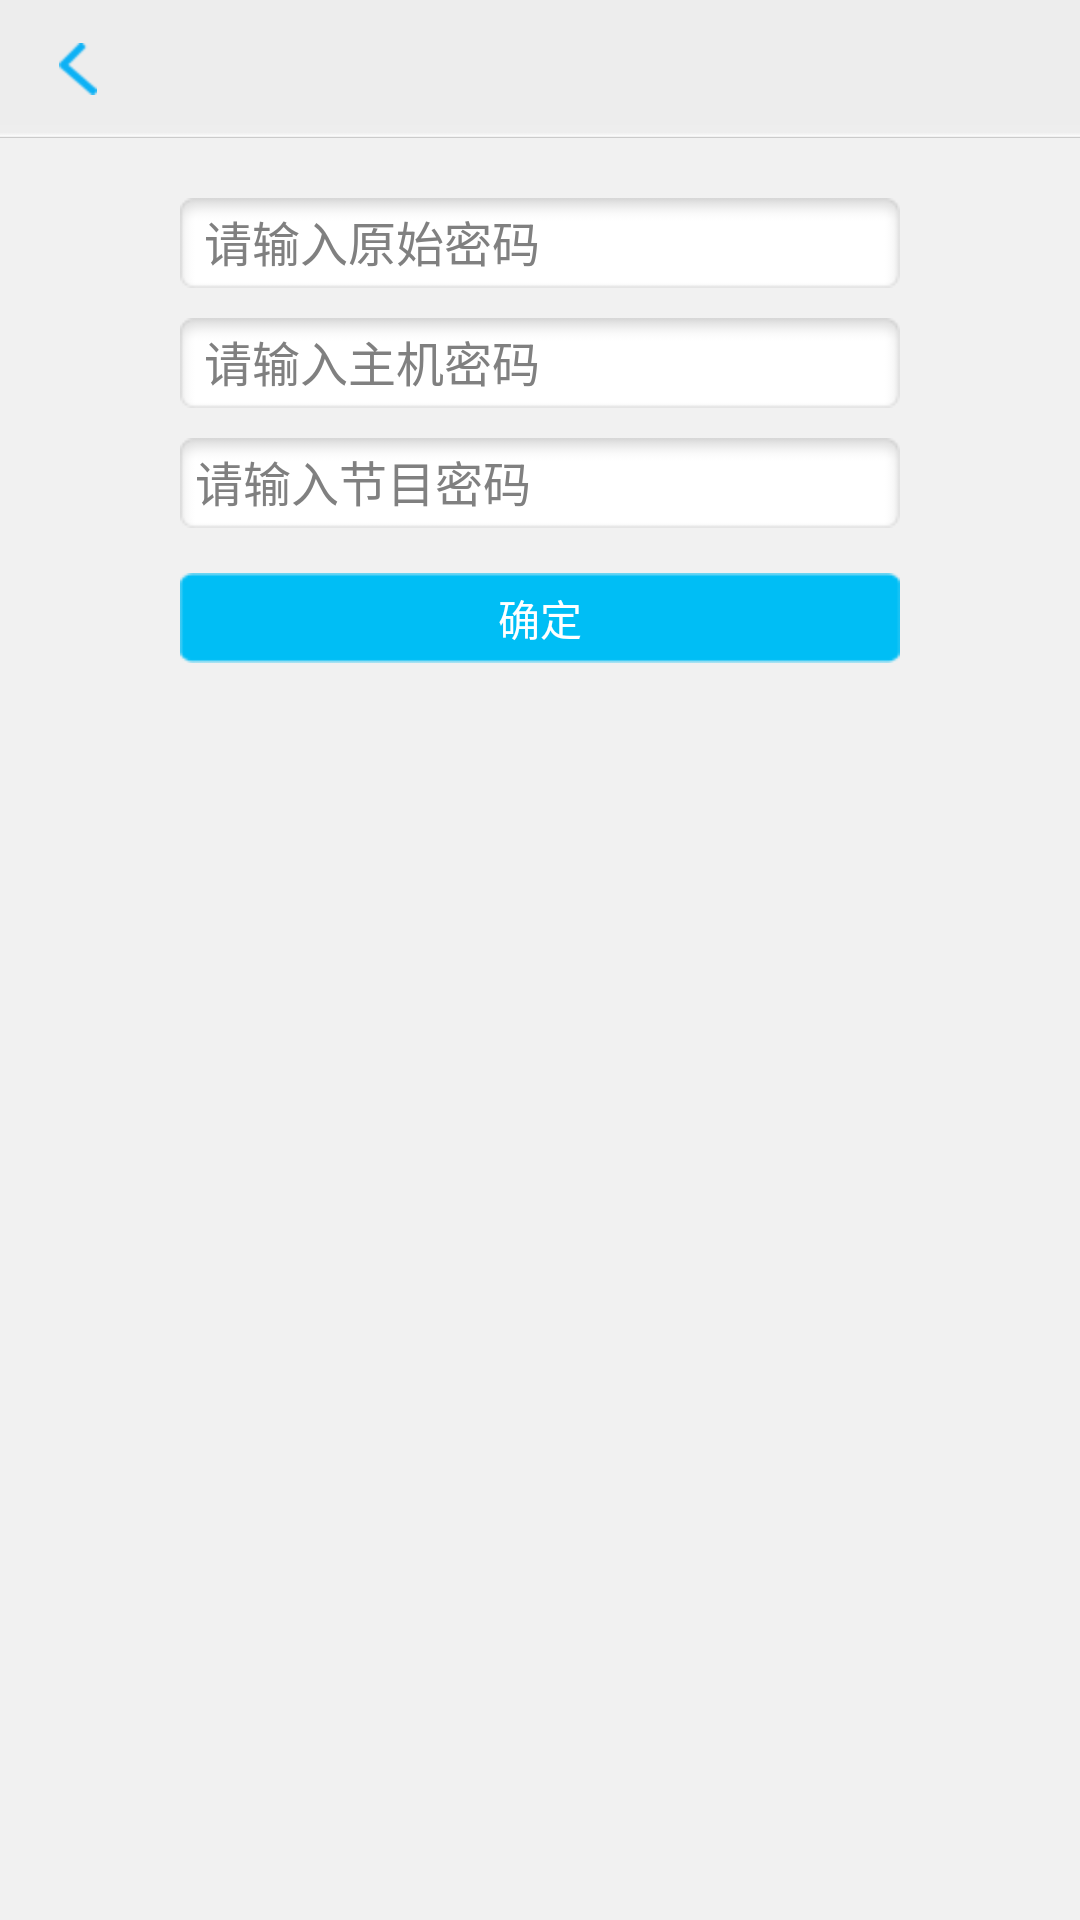

Where to tap for icons on this 1080w x 1920h app screen, as [x,y]:
bnt back nor: [78,69]
